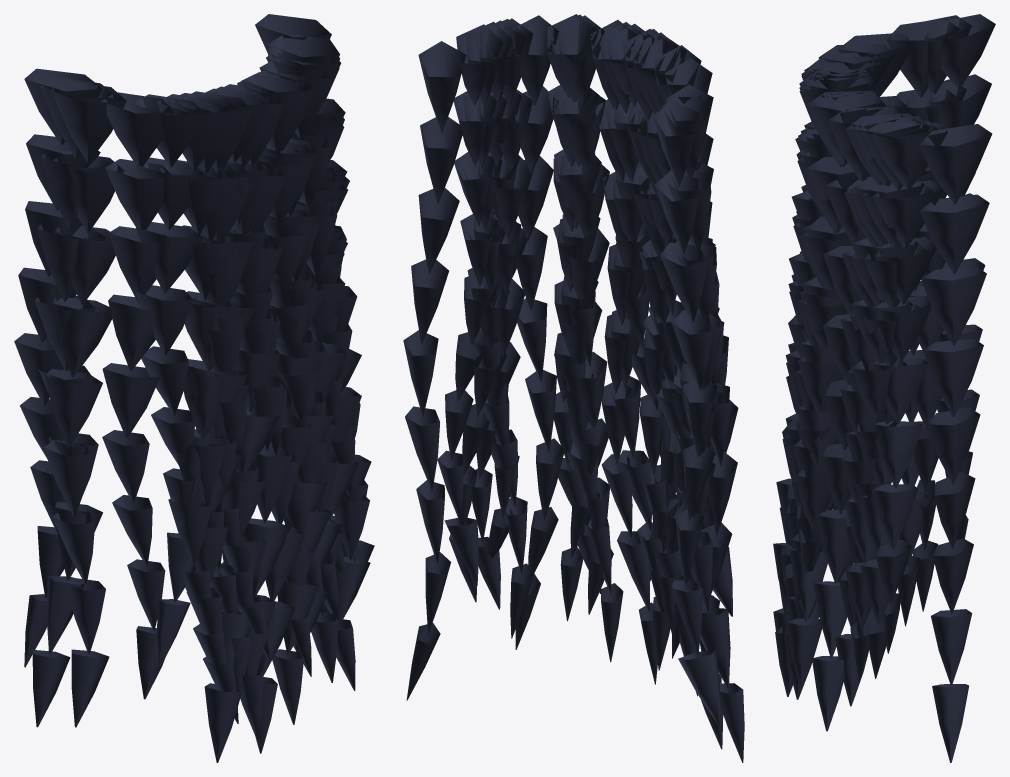
The model's file is anime_hair_wavy.glb.
3 views of the same model, side by side, from view 1: azimuth 30°, elevation 25°; view 2: azimuth 150°, elevation 25°; view 3: azimuth 270°, elevation 25° (orthographic). The views are drawn at different scales.
Visible parts, largest first — view 1: wavy; view 2: wavy; view 3: wavy.
Boxes of the visible parts, x1,y1,x2,y2 form: wavy: (14, 14, 374, 762); wavy: (403, 14, 744, 762); wavy: (773, 14, 995, 762).
Size of the model in its own units: 0.352 by 0.6821 by 0.222.
